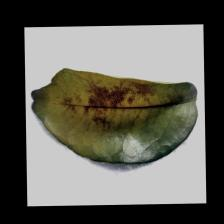black spot: (63, 74, 185, 136)
